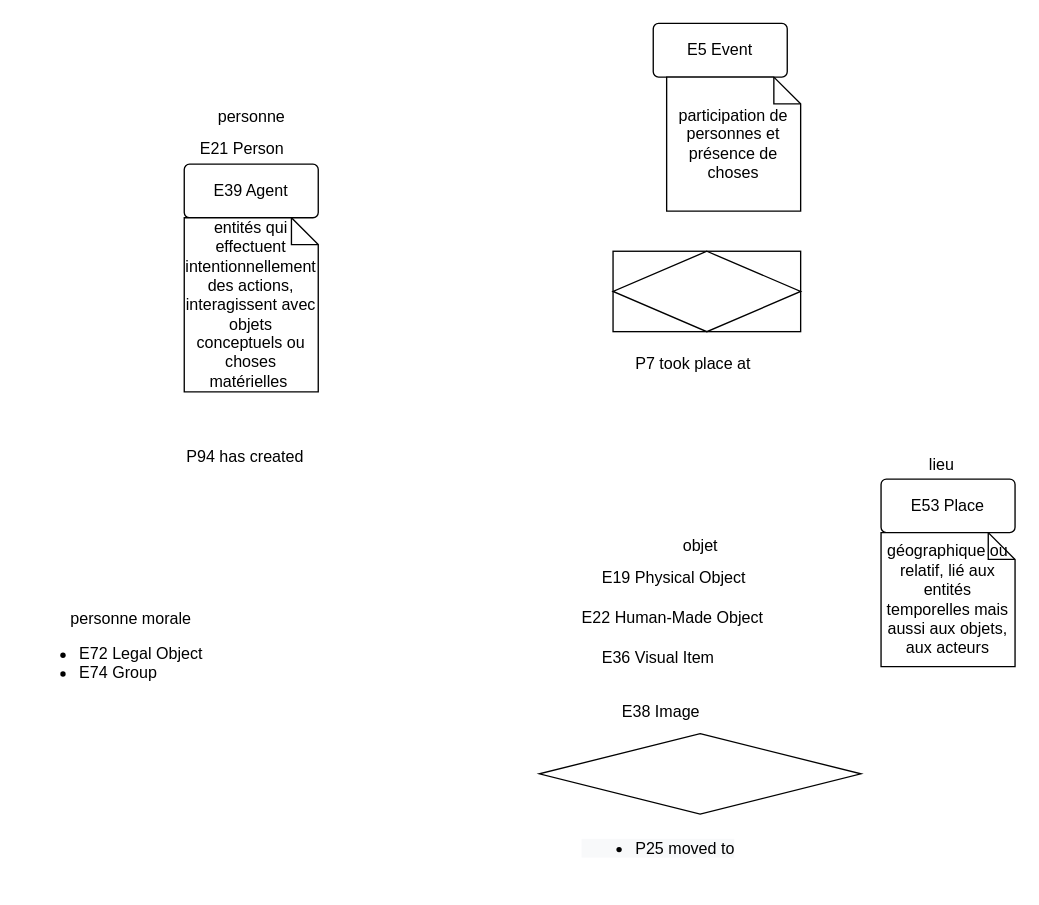
Image size: 1039x905. Some labels were removed from this diagram. The box of each missing label's shape, as (x1, y1, x2, y2) in pixels:
P11 had participant: (612, 250, 801, 332)
P53 : has former or current location: (538, 732, 861, 814)
